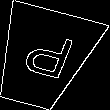P_S: (12, 28, 75, 88)
